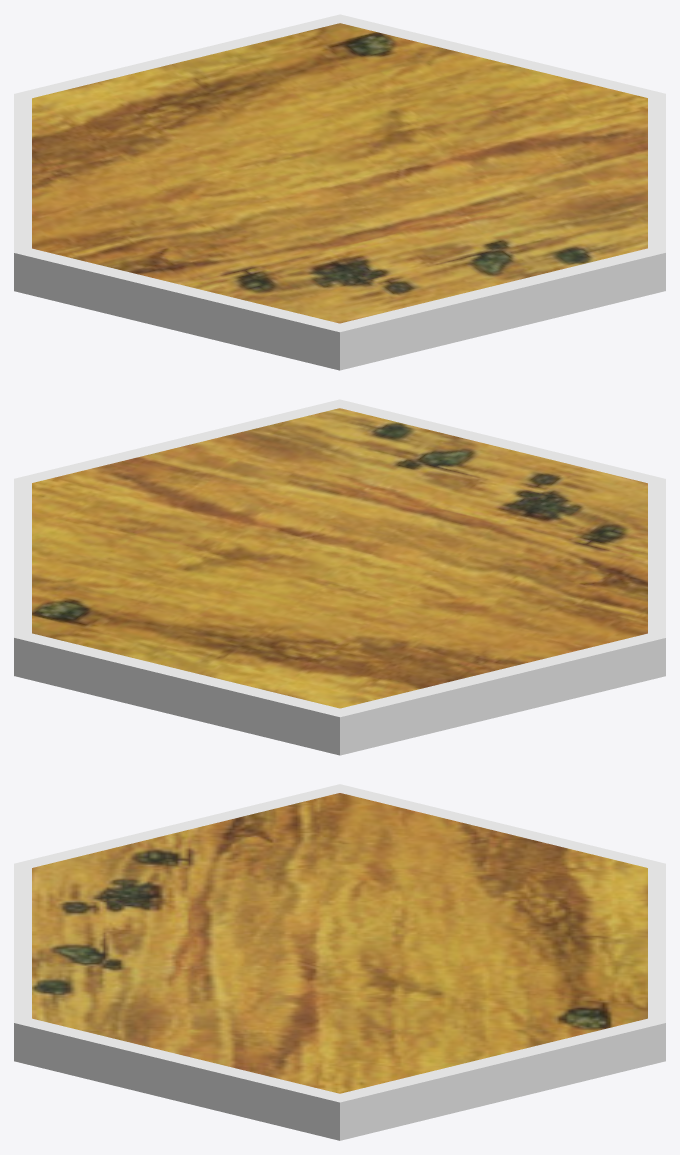
Rendered from hex_wheat.glb.
3 views of the same model, one above another, from view 1: azimuth 30°, elevation 25°; view 2: azimuth 150°, elevation 25°; view 3: azimuth 270°, elevation 25° (orthographic).
Parts seen in each view (by area): view 1: hex_wheat; view 2: hex_wheat; view 3: hex_wheat.
Part boxes in pixels (box(x1,y1,x2,y2)): hex_wheat: box(14, 14, 665, 370); hex_wheat: box(14, 399, 665, 755); hex_wheat: box(14, 784, 665, 1140).
Size of the model in its own units: 0.089 by 0.005 by 0.077.
2 materials, 1 textured.
